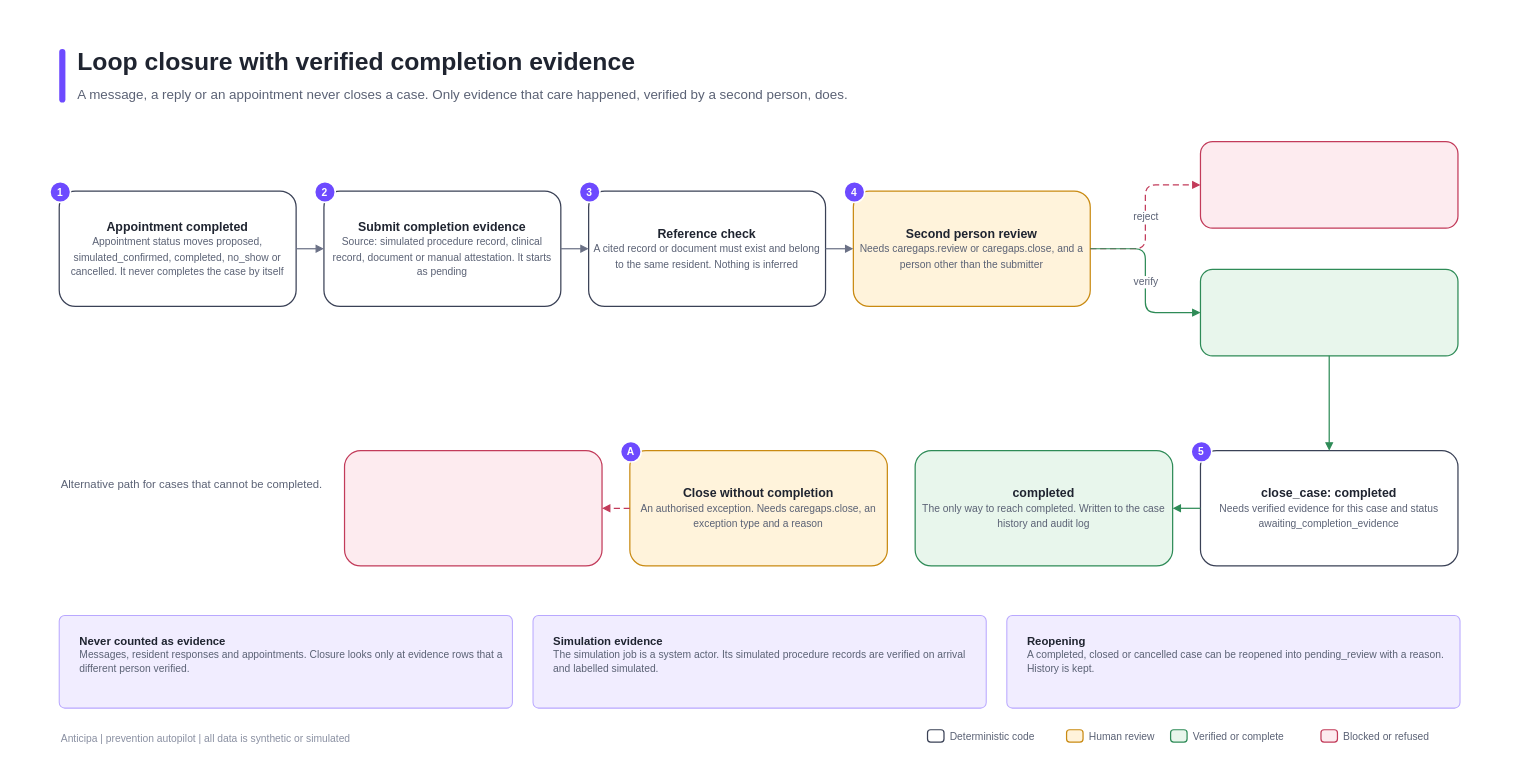
Image size: 1518x777. Some labels were removed from this diagram. The box of each missing label's shape, as (x1, y1, x2, y2) in pixels:
closed_not_completed Recorded in the case history and audit log with the reason: (343, 449, 602, 566)
Rejected Evidence stays on record. Submit new evidence or use an exception: (1199, 140, 1458, 228)
Verified Evidence can now support closure: (1199, 268, 1458, 356)
